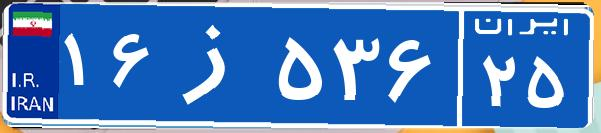1: (57, 26, 110, 107)
2: (475, 38, 525, 113)
3: (330, 28, 385, 110)
5: (273, 28, 330, 110), (525, 38, 570, 115)
6: (385, 28, 445, 110), (110, 28, 158, 105)
ز: (158, 15, 273, 115)
